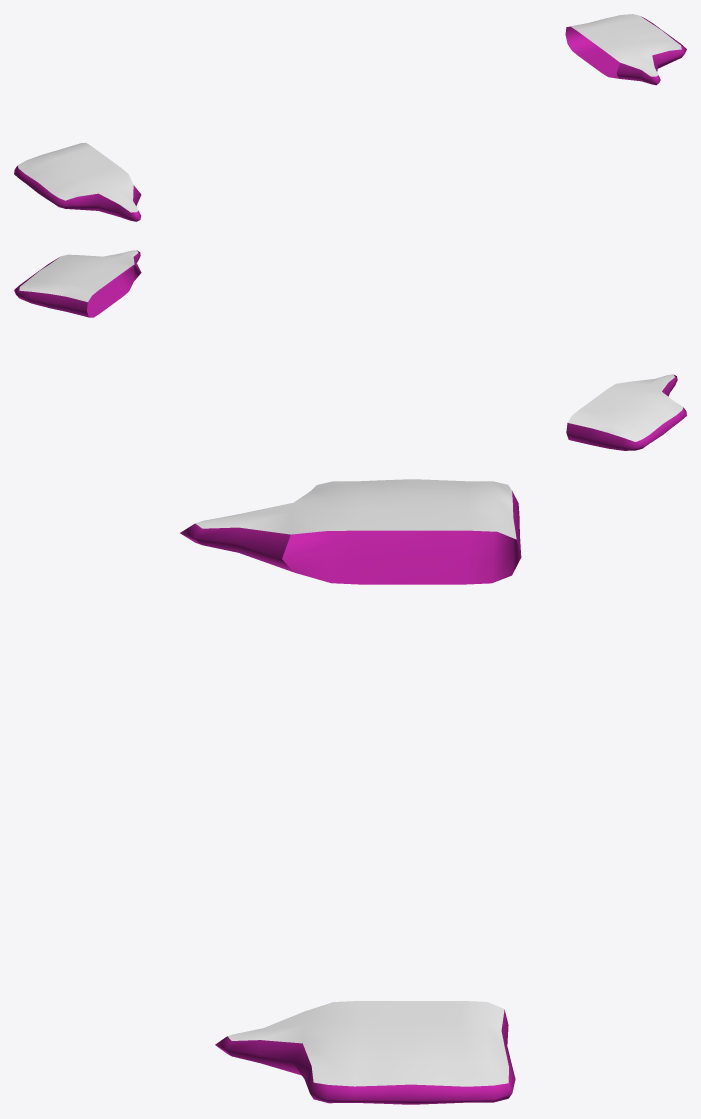
Rendered from pembe inşaatcı eldiveni.fbx.
3 renders of one model, top to bottom at view 1: azimuth 30°, elevation 25°; view 2: azimuth 150°, elevation 25°; view 3: azimuth 270°, elevation 25°, orthographic. The views are drawn at different scales.
Parts seen in each view (by area): view 1: Cube.001, Cube.002; view 2: Cube.001, Cube.002; view 3: Cube.001, Cube.002.
Part boxes in pixels (x1=…): Cube.001: x1=14, y1=142, x2=141, y2=221; Cube.002: x1=565, y1=14, x2=686, y2=85; Cube.001: x1=566, y1=374, x2=686, y2=450; Cube.002: x1=14, y1=250, x2=141, y2=317; Cube.001: x1=180, y1=479, x2=521, y2=584; Cube.002: x1=215, y1=1001, x2=515, y2=1104.
Bounding box in the file's own units: 437 × 17.83 × 102.
